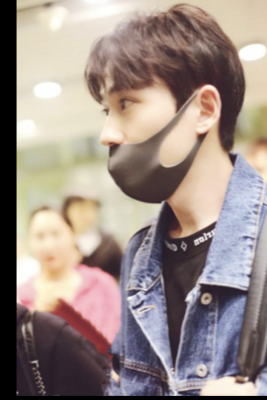mask_weared_incorrect: (99, 92, 198, 202)
